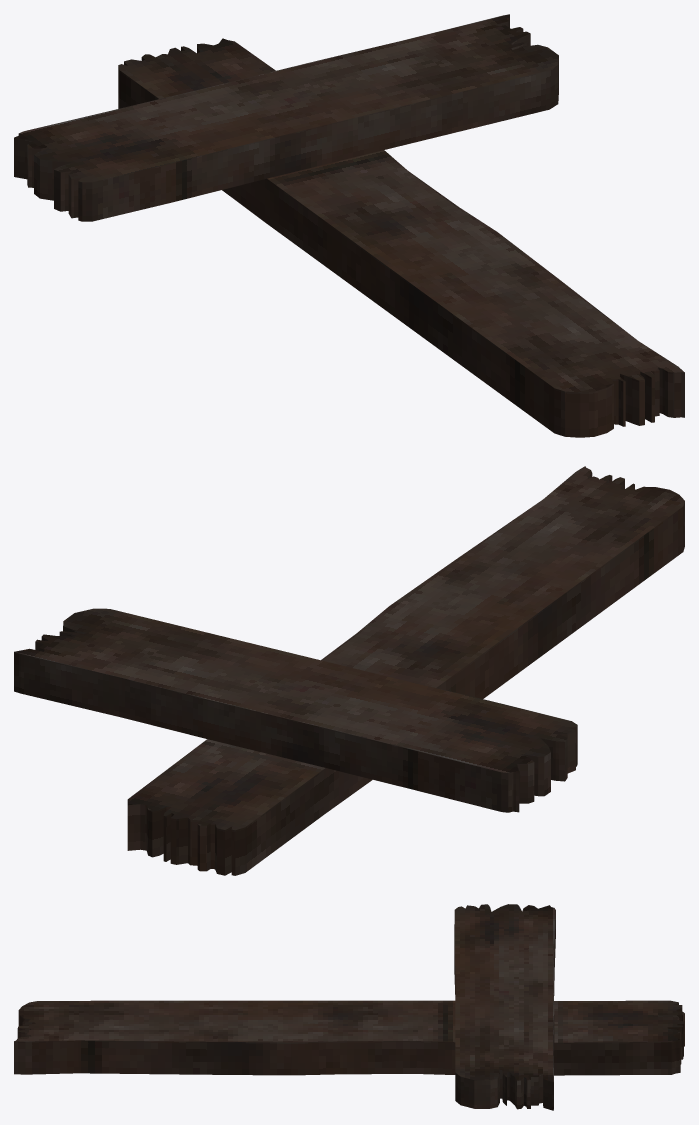
Rendered from cross_1.glb.
3 views of the same model, one above another, from view 1: azimuth 30°, elevation 25°; view 2: azimuth 150°, elevation 25°; view 3: azimuth 270°, elevation 25° (orthographic). The views are drawn at different scales.
Visible parts, largest first — view 1: cross_1; view 2: cross_1; view 3: cross_1.
Part boxes in pixels (left/top/right/bottom): cross_1: left=14, top=14, right=684, bottom=437; cross_1: left=14, top=466, right=684, bottom=875; cross_1: left=14, top=904, right=684, bottom=1110.
Size of the model in its own units: 0.2666 by 0.043 by 0.4246.
Materials: 1 (1 with a texture image).
